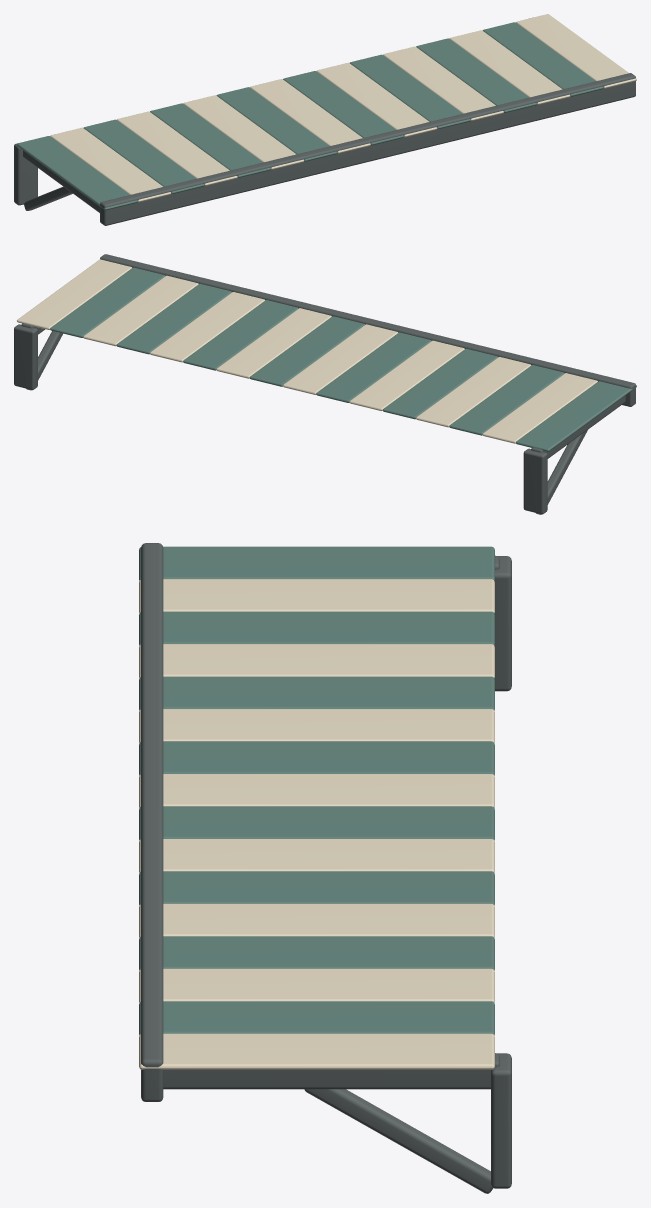
The model's file is canopy_canvas.glb.
3 renders of one model, top to bottom at view 1: azimuth 30°, elevation 25°; view 2: azimuth 150°, elevation 25°; view 3: azimuth 270°, elevation 25°, orthographic. The views are drawn at different scales.
Visible parts, largest first — view 1: Front fascia, Tailored alternating canvas strip, Tailored alternating canvas strip.013, Tailored alternating canvas strip.014, Tailored alternating canvas strip.002, Tailored alternating canvas strip.003, Tailored alternating canvas strip.006, Tailored alternating canvas strip.005, Tailored alternating canvas strip.007, Tailored alternating canvas strip.009, Tailored alternating canvas strip.004, Tailored alternating canvas strip.008 (+8 smaller); view 2: Front fascia, Tailored alternating canvas strip, Tailored alternating canvas strip.012, Tailored alternating canvas strip.002, Tailored alternating canvas strip.006, Tailored alternating canvas strip.007, Tailored alternating canvas strip.001, Tailored alternating canvas strip.010, Tailored alternating canvas strip.008, Tailored alternating canvas strip.009, Tailored alternating canvas strip.011, Tailored alternating canvas strip.013 (+10 smaller); view 3: Front fascia, Tailored alternating canvas strip.015, Tailored alternating canvas strip.011, Tailored alternating canvas strip.013, Tailored alternating canvas strip.003, Tailored alternating canvas strip.005, Tailored alternating canvas strip, Tailored alternating canvas strip.002, Tailored alternating canvas strip.004, Tailored alternating canvas strip.001, Tailored alternating canvas strip.006, Tailored alternating canvas strip.007 (+9 smaller).
Boxes of the visible parts, x1=… form: Front fascia: x1=100, y1=73, x2=635, y2=225; Tailored alternating canvas strip: x1=17, y1=136, x2=137, y2=210; Tailored alternating canvas strip.013: x1=449, y1=30, x2=570, y2=104; Tailored alternating canvas strip.014: x1=482, y1=22, x2=603, y2=96; Tailored alternating canvas strip.002: x1=83, y1=119, x2=204, y2=193; Tailored alternating canvas strip.003: x1=117, y1=111, x2=237, y2=185; Tailored alternating canvas strip.006: x1=216, y1=87, x2=337, y2=161; Tailored alternating canvas strip.005: x1=183, y1=95, x2=304, y2=169; Tailored alternating canvas strip.007: x1=250, y1=79, x2=370, y2=153; Tailored alternating canvas strip.009: x1=316, y1=62, x2=437, y2=137; Tailored alternating canvas strip.004: x1=150, y1=103, x2=270, y2=177; Tailored alternating canvas strip.008: x1=283, y1=71, x2=403, y2=145; Front fascia: x1=100, y1=254, x2=635, y2=406; Tailored alternating canvas strip: x1=516, y1=381, x2=636, y2=451; Tailored alternating canvas strip.012: x1=116, y1=283, x2=231, y2=354; Tailored alternating canvas strip.002: x1=449, y1=365, x2=564, y2=435; Tailored alternating canvas strip.006: x1=316, y1=332, x2=431, y2=402; Tailored alternating canvas strip.007: x1=283, y1=324, x2=398, y2=394; Tailored alternating canvas strip.001: x1=482, y1=373, x2=597, y2=443; Tailored alternating canvas strip.010: x1=183, y1=300, x2=298, y2=370; Tailored alternating canvas strip.008: x1=249, y1=316, x2=364, y2=386; Tailored alternating canvas strip.009: x1=216, y1=308, x2=331, y2=378; Tailored alternating canvas strip.011: x1=150, y1=292, x2=265, y2=362; Tailored alternating canvas strip.013: x1=83, y1=275, x2=198, y2=346; Front fascia: x1=141, y1=543, x2=163, y2=1101; Tailored alternating canvas strip.015: x1=139, y1=1033, x2=494, y2=1069; Tailored alternating canvas strip.011: x1=139, y1=903, x2=494, y2=937; Tailored alternating canvas strip.013: x1=139, y1=968, x2=494, y2=1002; Tailored alternating canvas strip.003: x1=139, y1=644, x2=494, y2=677; Tailored alternating canvas strip.005: x1=139, y1=709, x2=494, y2=742; Tailored alternating canvas strip: x1=139, y1=546, x2=494, y2=580; Tailored alternating canvas strip.002: x1=139, y1=611, x2=494, y2=645; Tailored alternating canvas strip.004: x1=139, y1=676, x2=494, y2=710; Tailored alternating canvas strip.001: x1=139, y1=579, x2=494, y2=612; Tailored alternating canvas strip.006: x1=139, y1=741, x2=494, y2=775; Tailored alternating canvas strip.007: x1=139, y1=774, x2=494, y2=807.
Bounding box in the file's own units: 4.7 × 0.5976 × 1.43.
